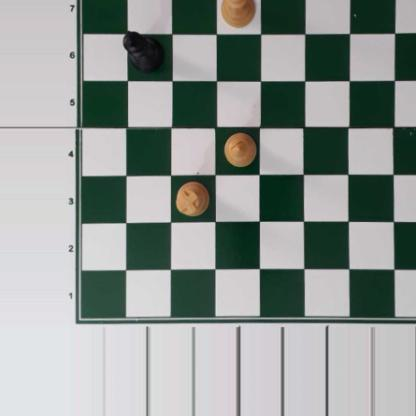black-king: (122, 30, 165, 74)
white-bishop: (223, 129, 257, 170)
white-king: (220, 0, 256, 30)
white-rook: (175, 181, 210, 216)
